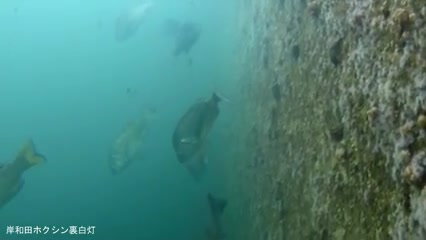smallfish: (169, 87, 232, 166)
